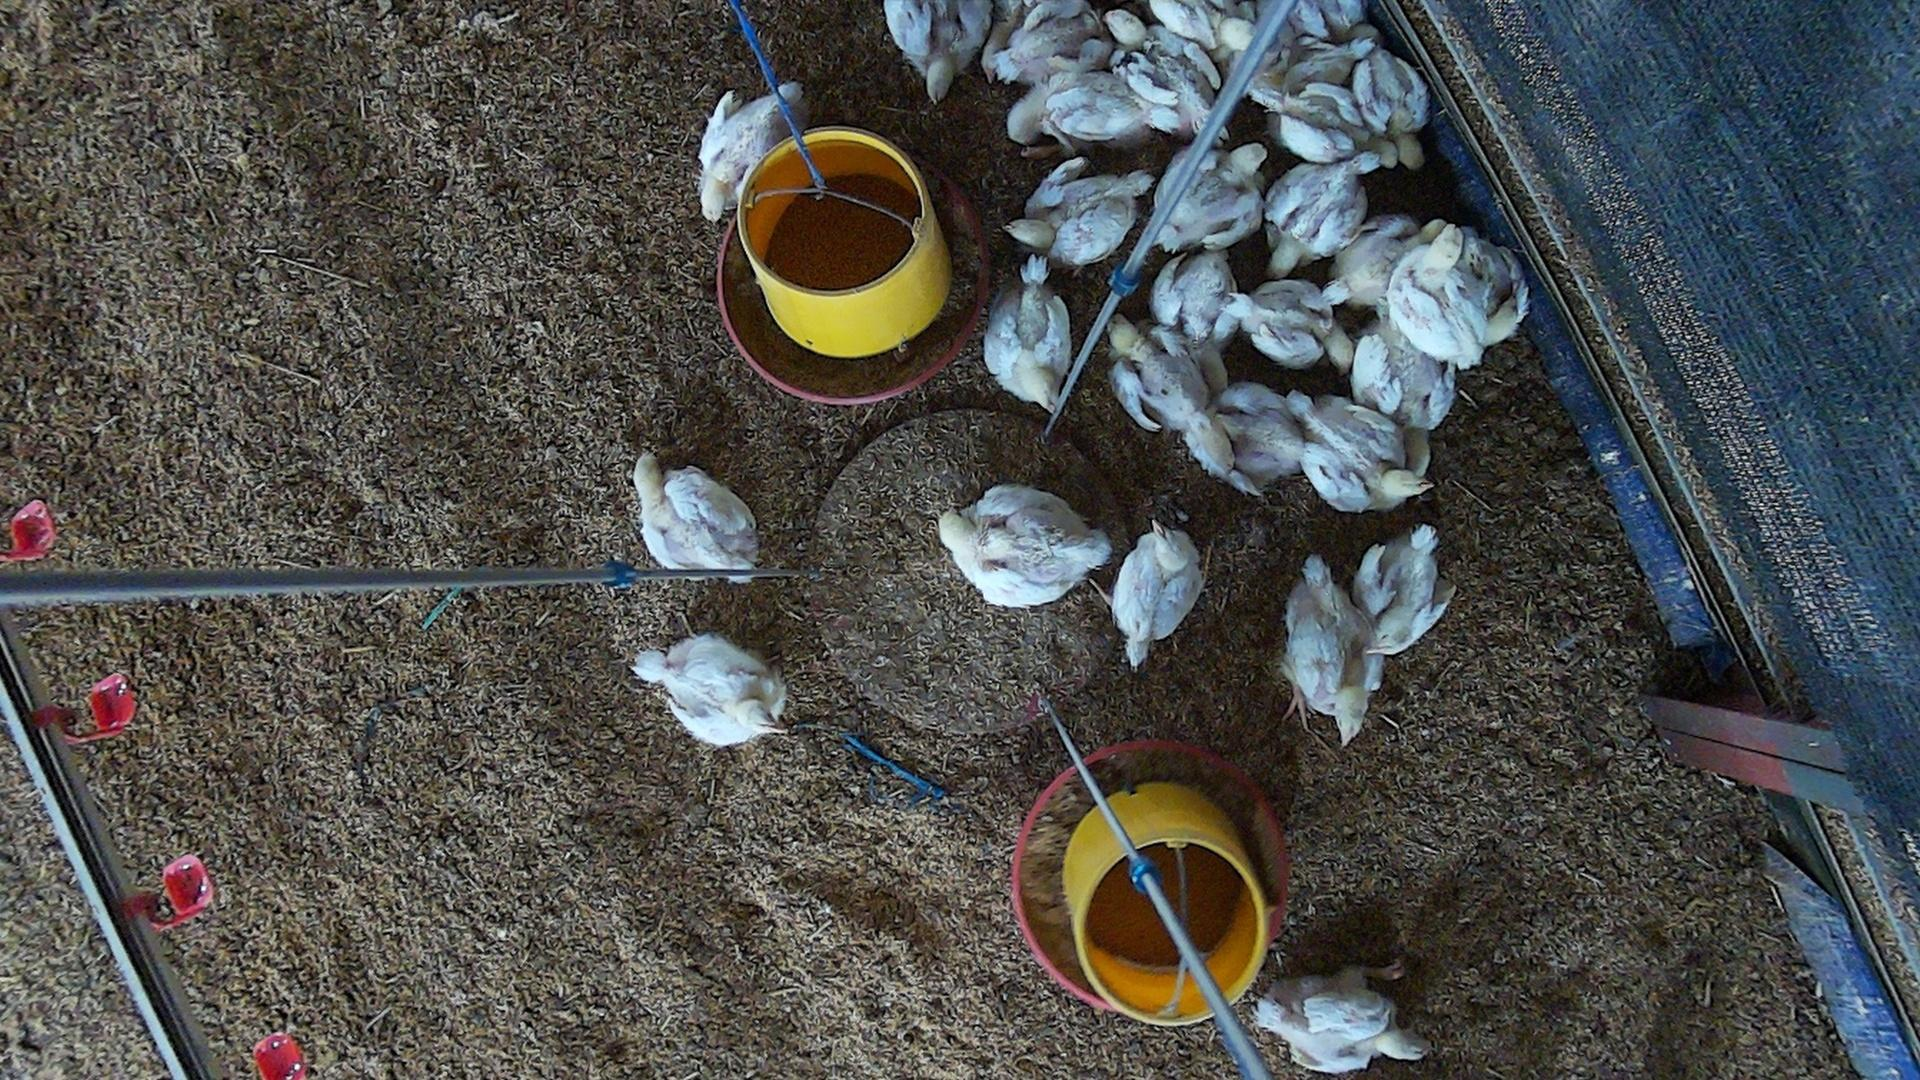ayam_broiler: (1278, 546, 1396, 745), (939, 484, 1113, 605), (1254, 968, 1427, 1075), (1286, 394, 1429, 512), (633, 634, 783, 746), (1004, 156, 1155, 265), (1105, 9, 1226, 142), (700, 80, 808, 222), (632, 456, 760, 568), (1387, 223, 1485, 368), (1108, 314, 1226, 431), (1184, 381, 1302, 496), (982, 270, 1073, 418), (1113, 524, 1205, 665), (1262, 161, 1371, 270), (1158, 144, 1265, 256), (1352, 522, 1443, 651), (1006, 73, 1147, 156), (1229, 284, 1360, 373), (1265, 82, 1394, 169), (1353, 319, 1452, 433), (884, 0, 992, 103), (985, 4, 1106, 82), (1354, 49, 1428, 170), (1150, 248, 1240, 347), (1323, 214, 1416, 306), (1458, 227, 1527, 347), (1257, 40, 1377, 103), (1150, 1, 1257, 57)
